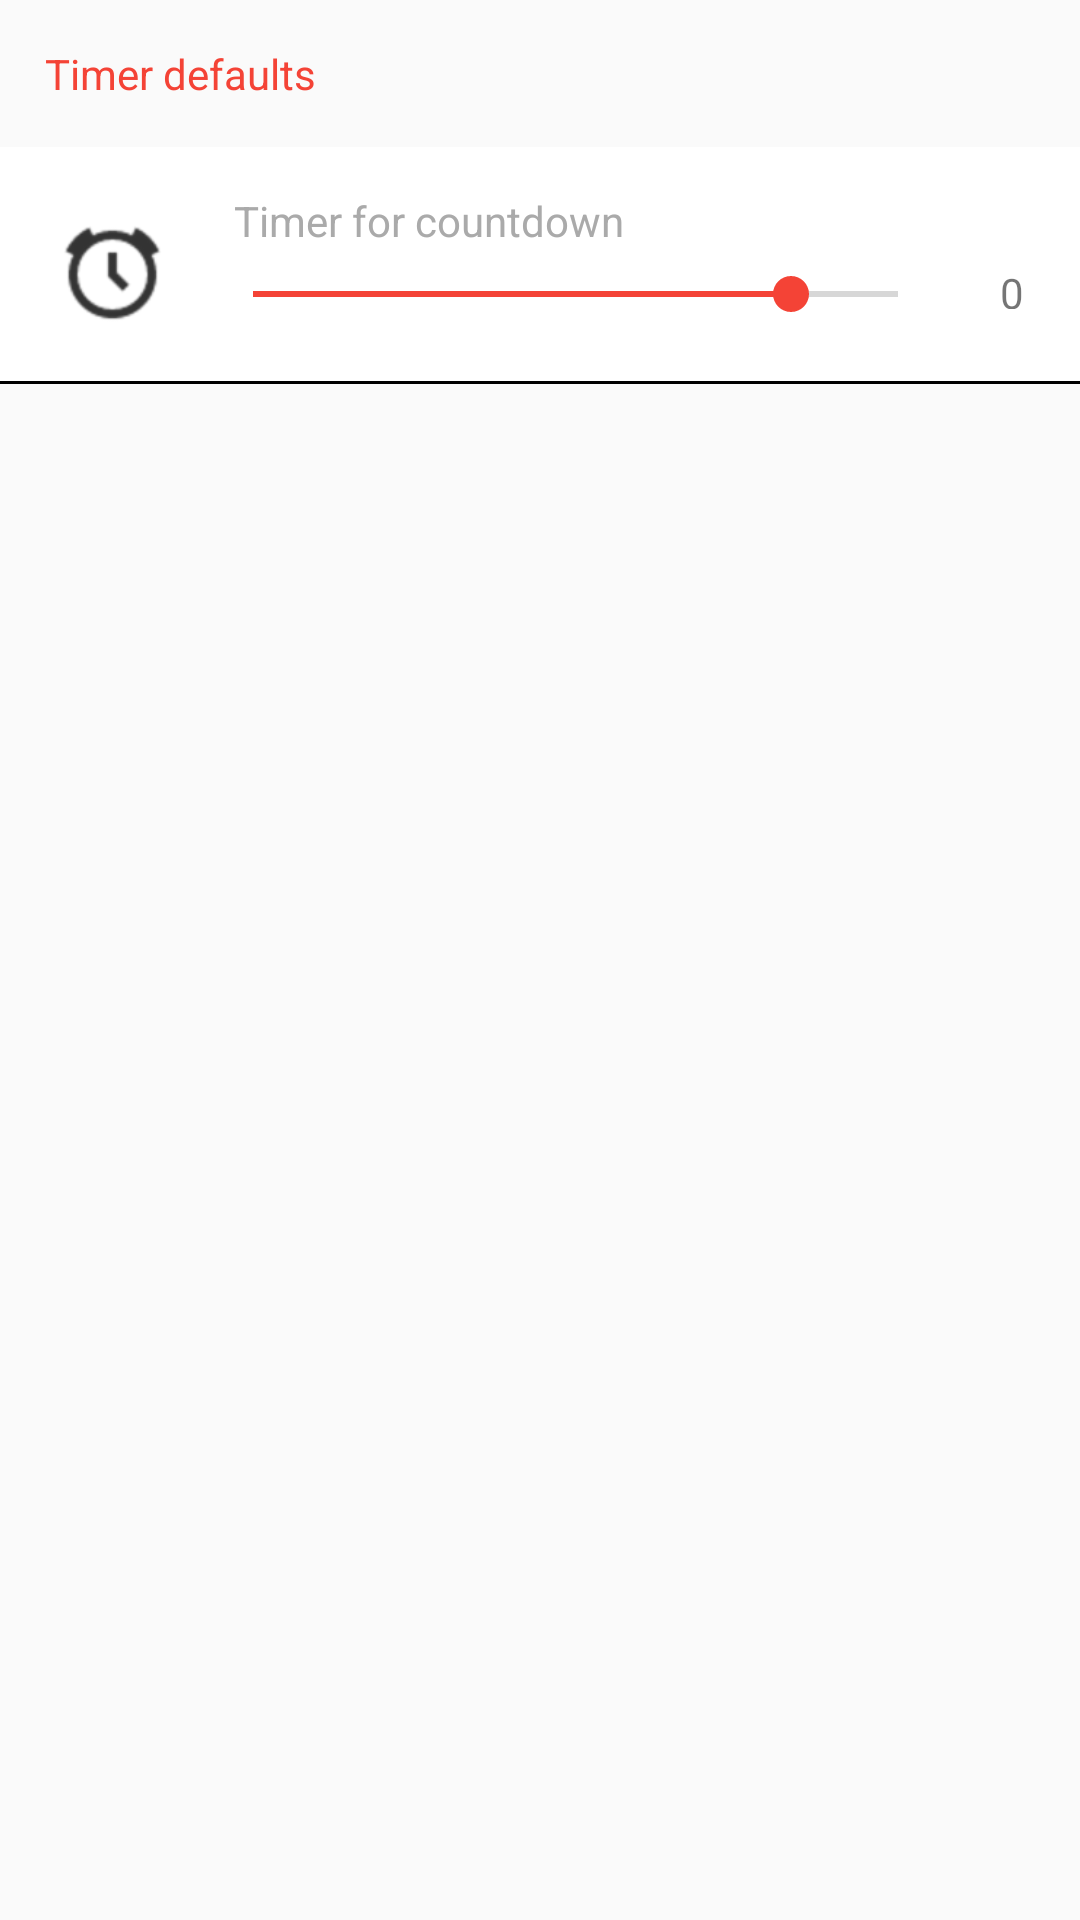

Point at icon controls on the screen. Image size 1080w x 1920h, points as (x,y).
alarm clock: (112,273)
